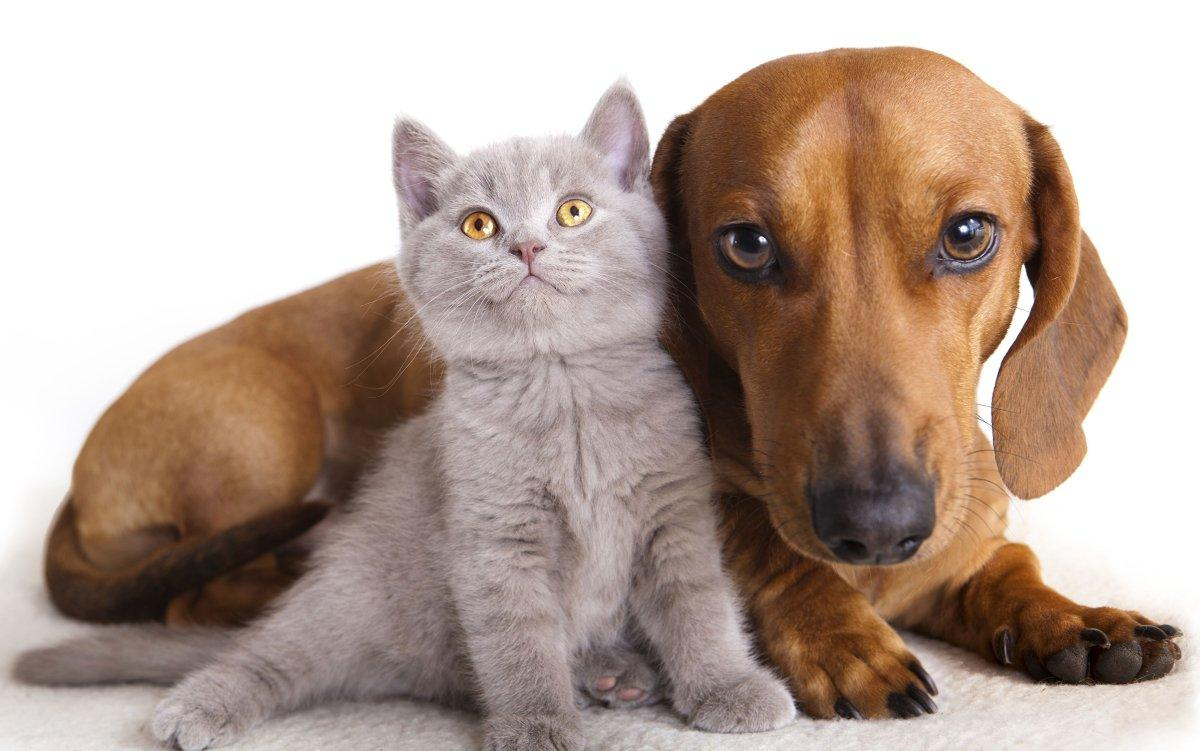animals: (223, 69, 787, 751), (664, 58, 1200, 750)
